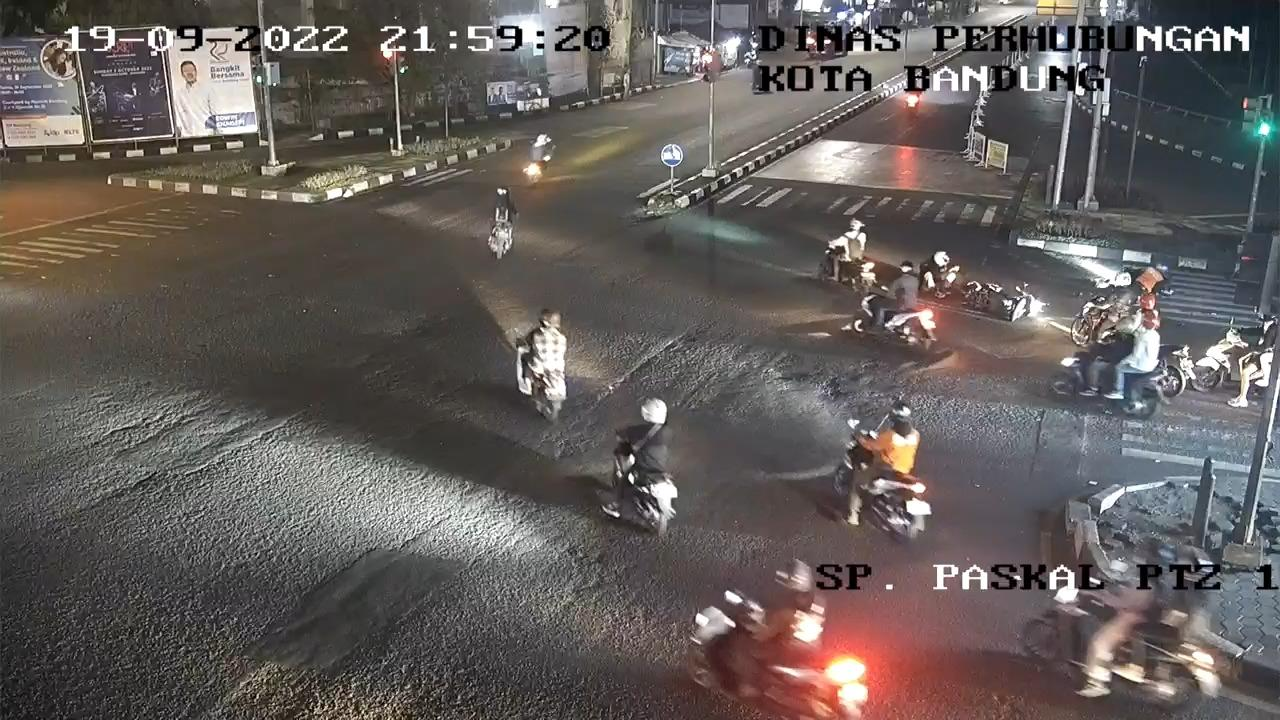accident: (1116, 262, 1176, 298), (918, 249, 961, 299)
